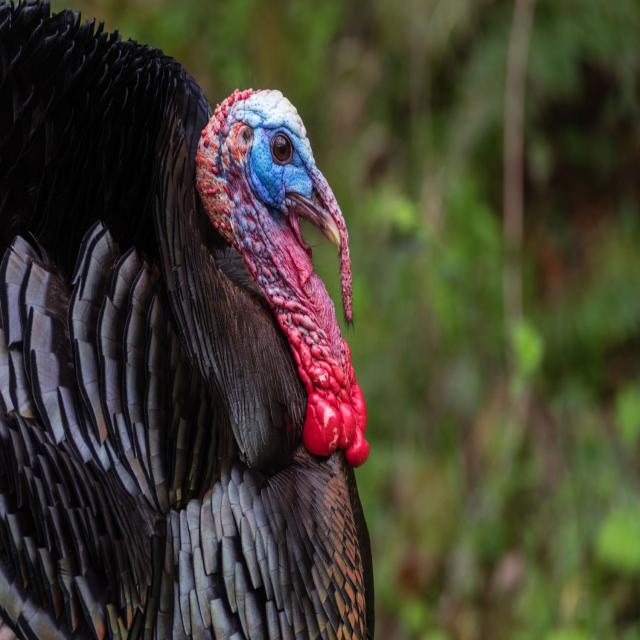Turkey: (0, 3, 384, 640)
